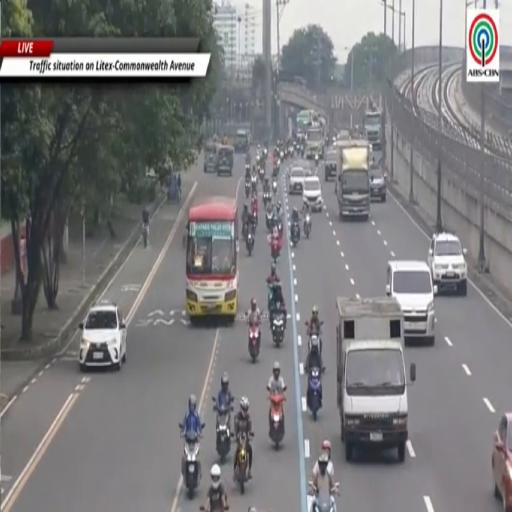bus: (186, 197, 239, 325), (296, 110, 315, 136)
car: (386, 261, 437, 345), (78, 301, 127, 371), (428, 233, 467, 296), (492, 412, 511, 511), (303, 176, 323, 212), (370, 167, 386, 202), (289, 167, 306, 195), (325, 150, 338, 181)
motorcycle: (212, 397, 233, 463), (182, 432, 201, 499), (309, 482, 339, 511), (234, 432, 248, 494), (307, 366, 322, 421), (248, 325, 261, 363), (271, 313, 285, 346), (268, 282, 281, 311), (308, 332, 322, 354), (271, 237, 281, 263), (268, 283, 276, 310), (291, 222, 299, 247), (246, 231, 254, 255), (304, 214, 311, 238), (142, 223, 148, 248), (200, 506, 229, 511), (263, 190, 271, 207), (266, 211, 273, 230), (242, 220, 249, 238), (251, 174, 257, 194), (276, 219, 282, 237), (252, 210, 257, 228), (245, 182, 250, 198), (273, 165, 279, 178), (272, 180, 277, 195), (259, 167, 264, 182), (245, 160, 250, 174), (288, 146, 293, 157), (256, 154, 260, 164), (315, 154, 318, 166), (263, 149, 267, 158), (280, 151, 284, 159), (283, 387, 286, 391)
truck: (336, 297, 416, 461), (336, 139, 371, 220), (363, 109, 382, 151), (305, 122, 324, 158)
